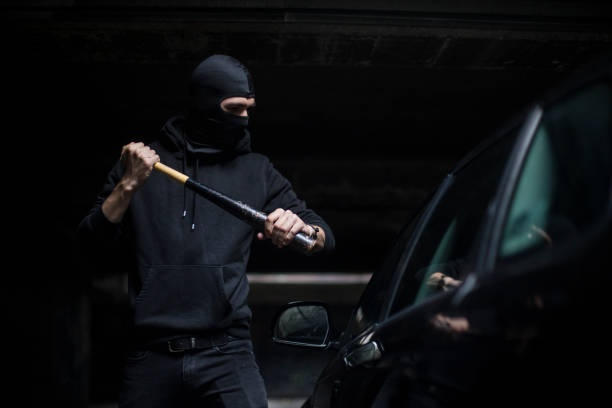bita: (137, 155, 315, 252)
